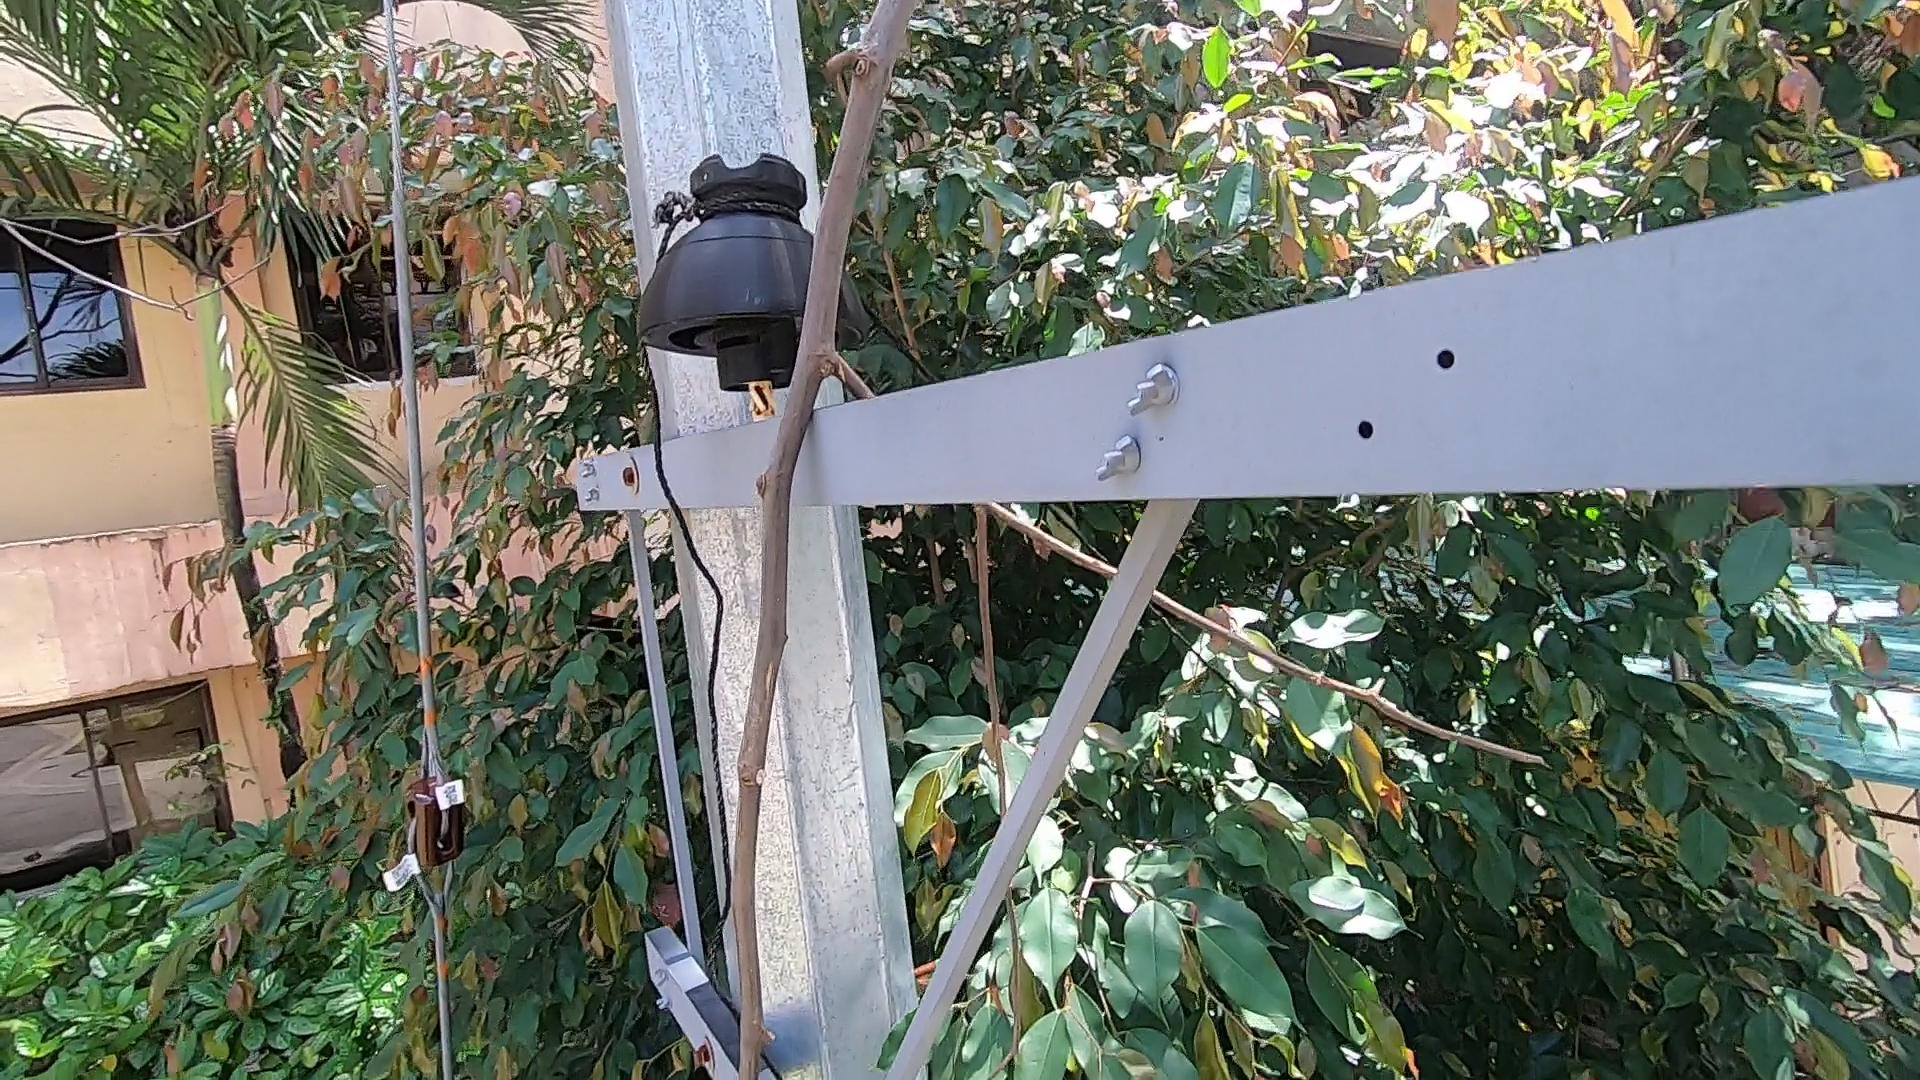tree branch: (645, 5, 895, 1075)
